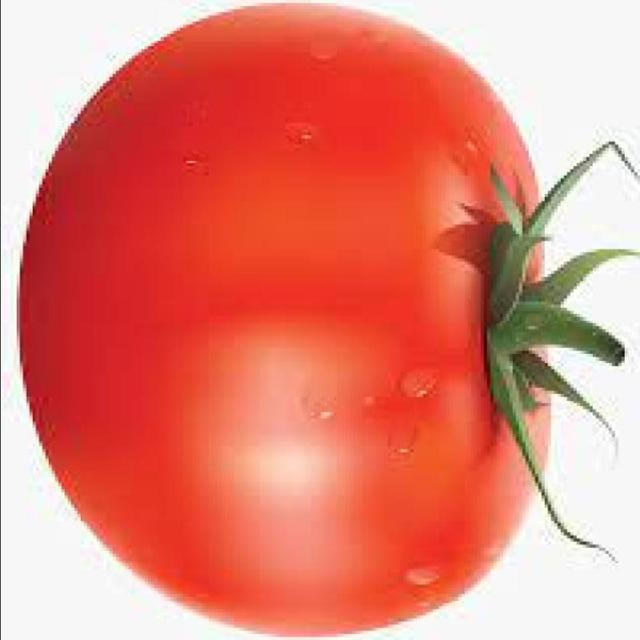Healthy Fruit: (11, 1, 398, 426)
